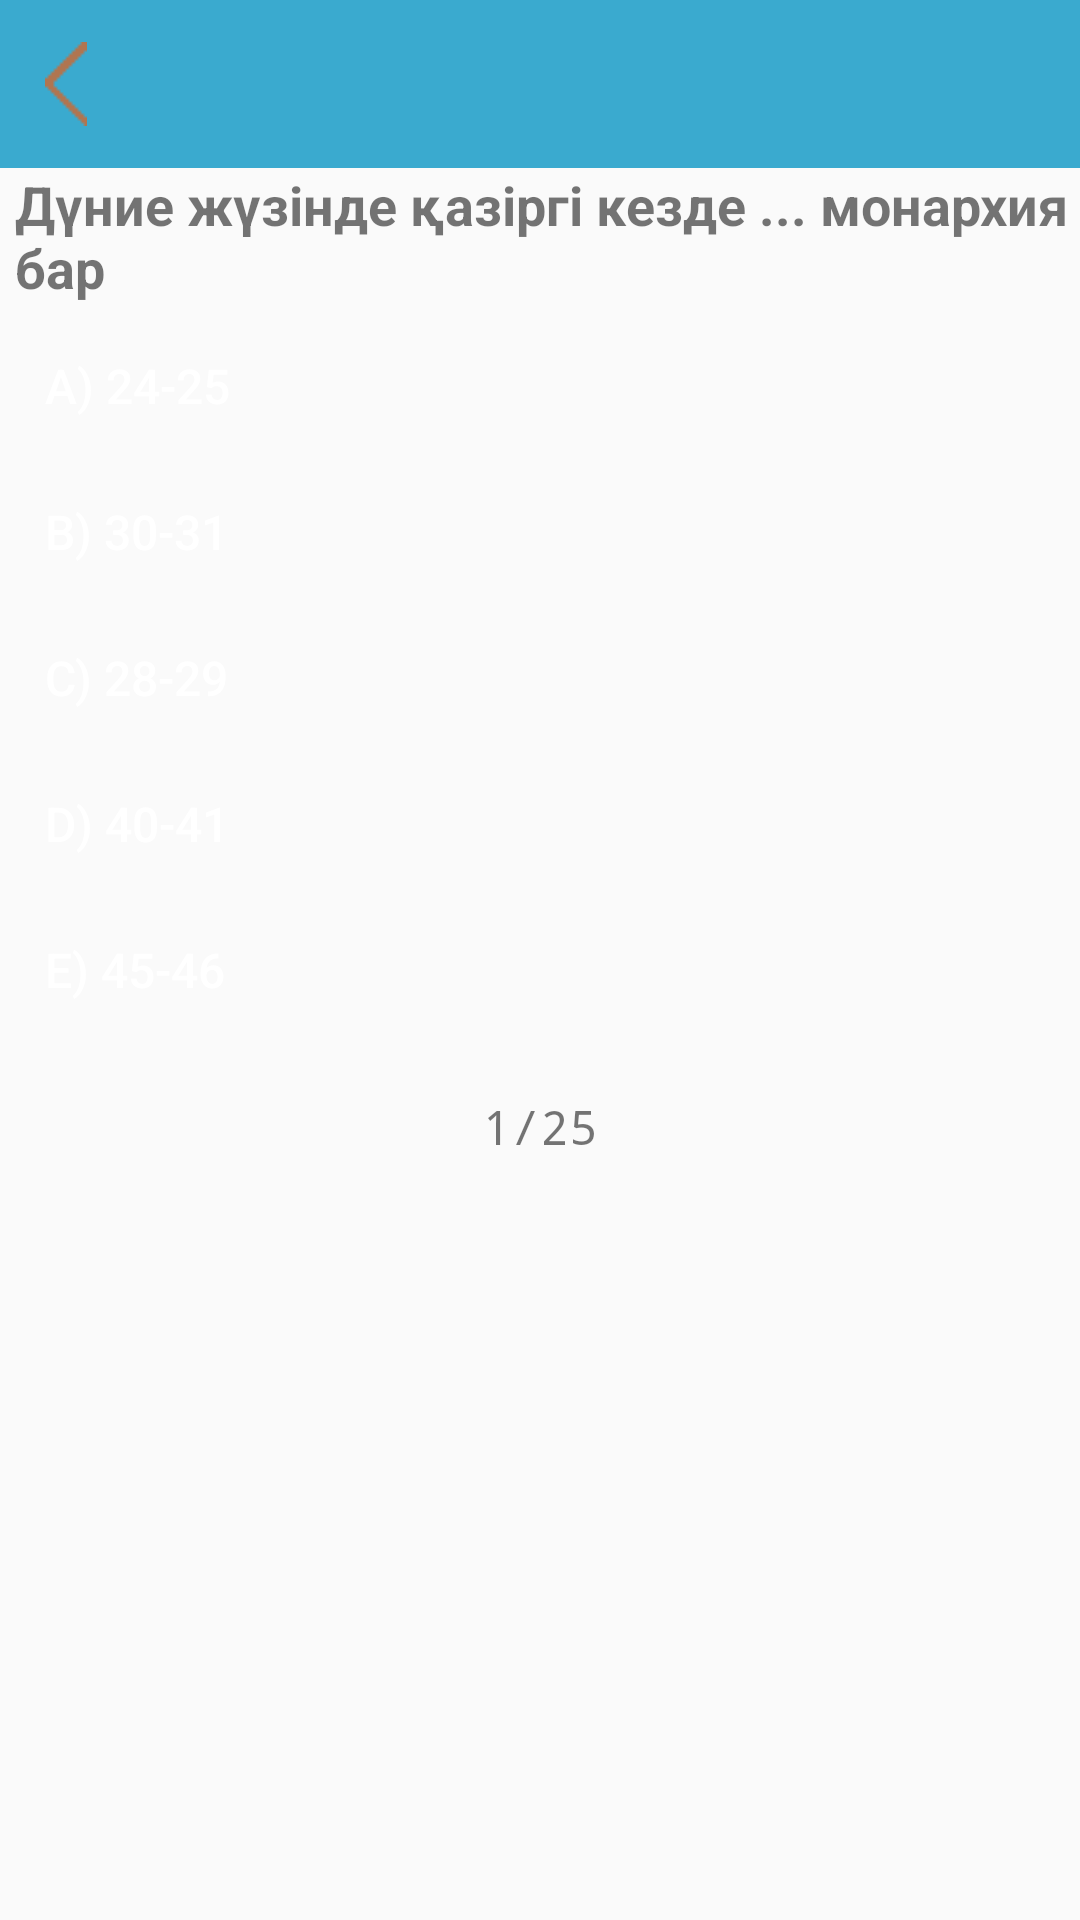

Icons on this 1080px x 1920px Android screen, each with its box as (x1, y1, x2, y2):
back: (45, 42, 87, 126)
